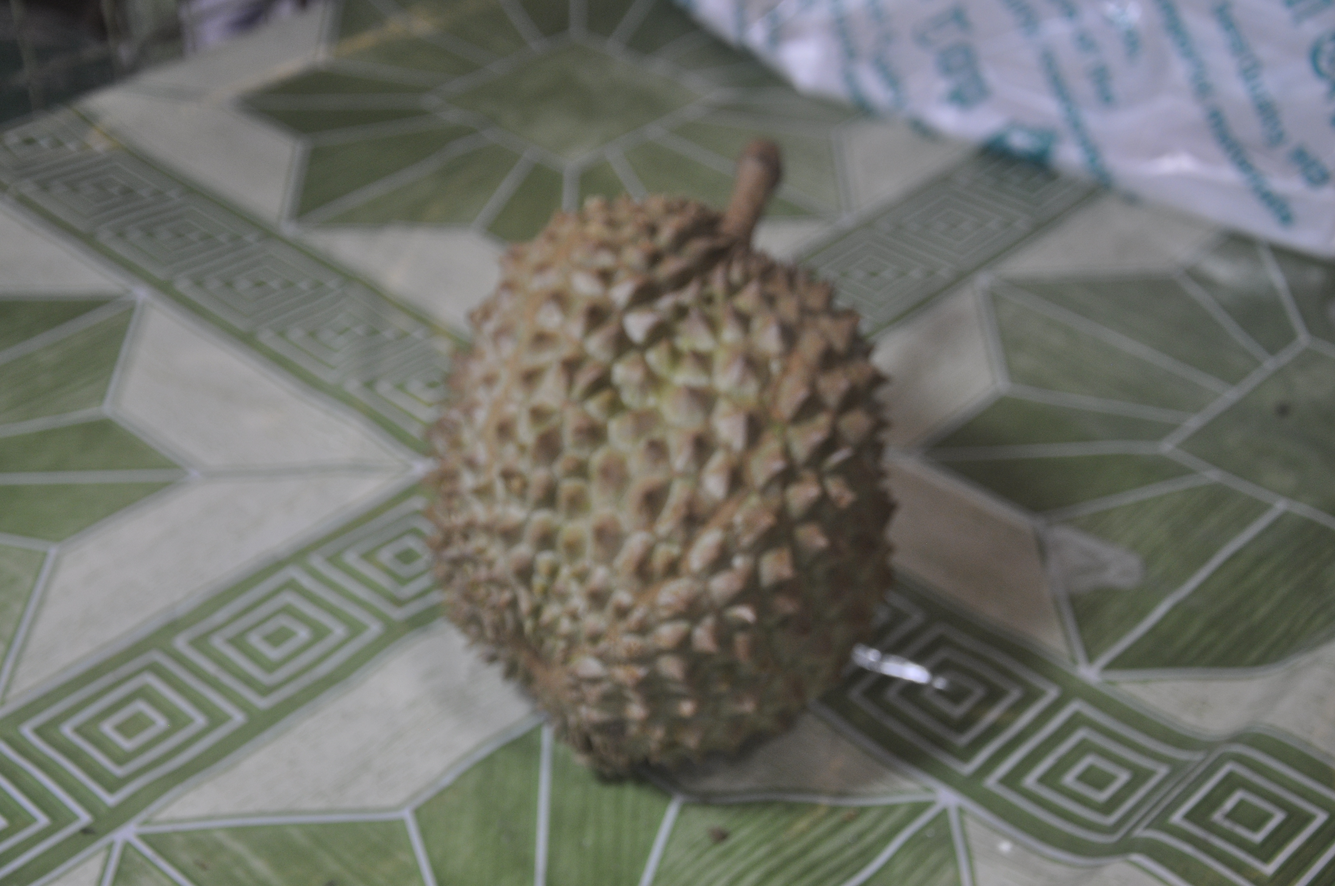mature: (432, 151, 893, 773)
